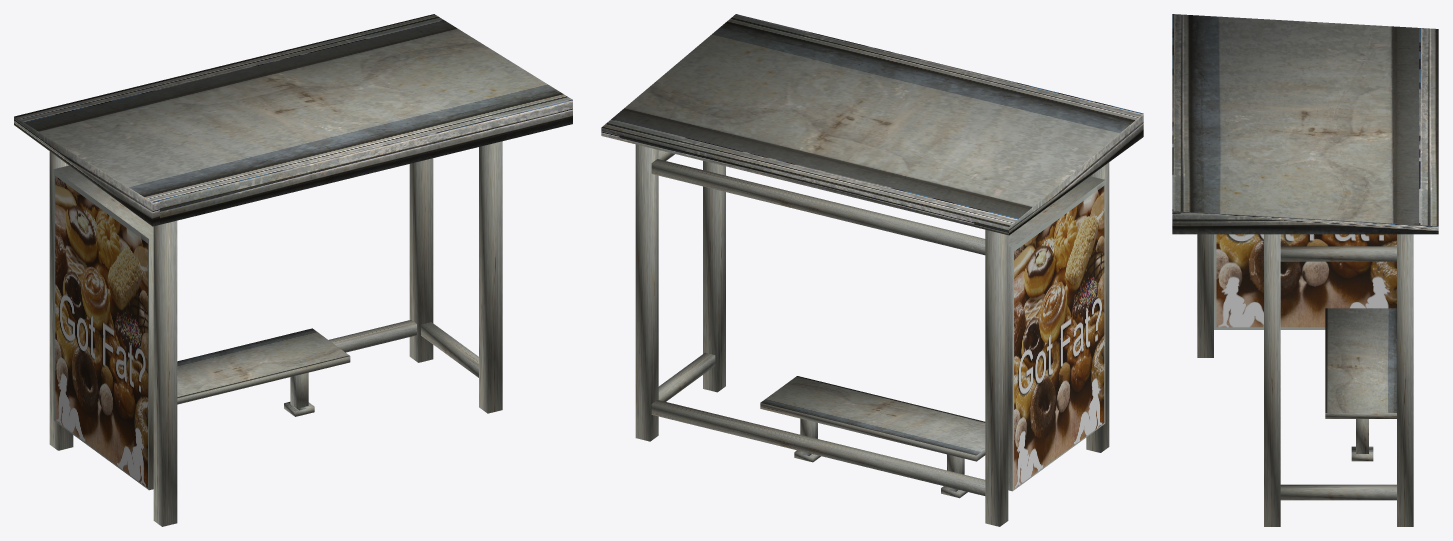
File: busstop_500.fbx
3 renders of one model, left to right at view 1: azimuth 30°, elevation 25°; view 2: azimuth 150°, elevation 25°; view 3: azimuth 270°, elevation 25°, orthographic. The views are drawn at different scales.
Visible parts, largest first — view 1: roof0, frame0, poster0, bench0; view 2: roof0, frame0, poster0, bench0; view 3: roof0, frame0, poster0, bench0.
Part boxes in pixels (<box>): roof0: <box>14,14,572,226</box>; frame0: <box>49,141,502,526</box>; poster0: <box>53,169,148,489</box>; bench0: <box>177,328,350,416</box>; roof0: <box>601,14,1143,235</box>; frame0: <box>635,144,1109,526</box>; poster0: <box>1012,180,1105,490</box>; bench0: <box>760,376,985,498</box>; roof0: <box>1172,14,1438,234</box>; frame0: <box>1197,234,1413,526</box>; poster0: <box>1214,234,1396,329</box>; bench0: <box>1325,308,1396,461</box>.
Size of the model in its own units: 5.29 by 4.09 by 3.02.
